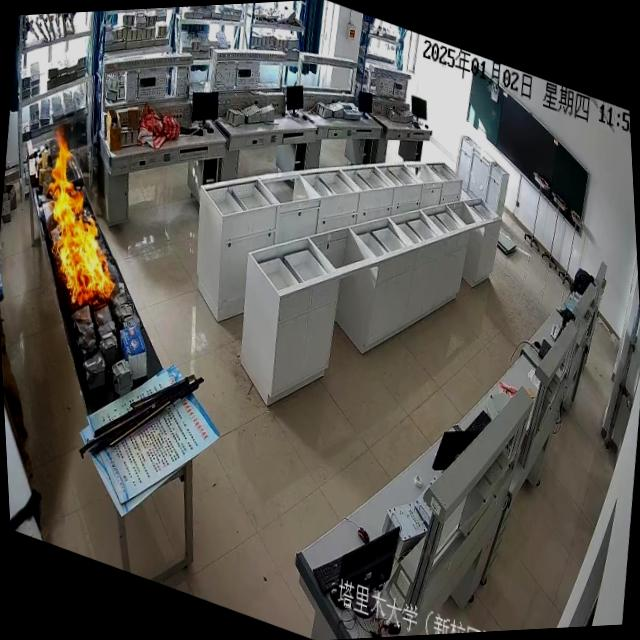fire: (18, 135, 138, 330)
